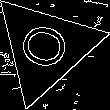O_E: (14, 20, 76, 75)
